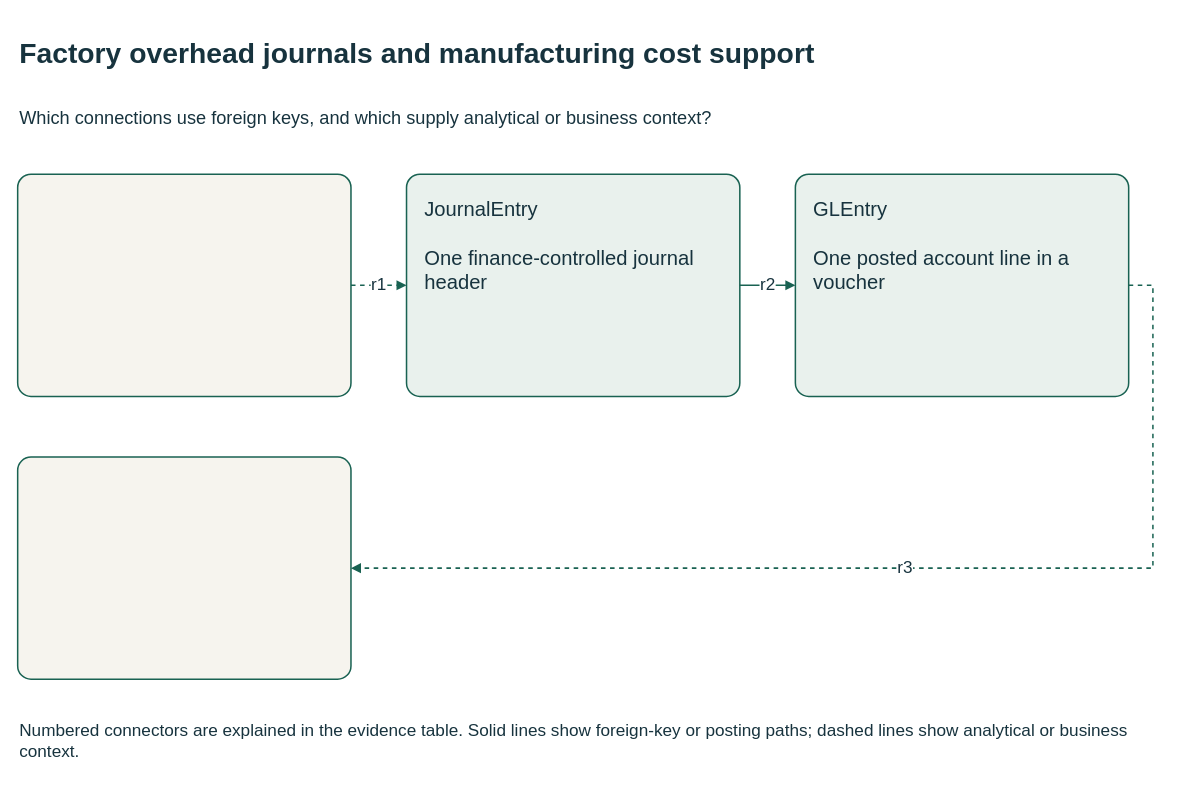
The diagram is 1180 pixels wide and 789 high, and some of its shapes have lost their labels. The shapes that lost their labels are listed below. From the top down, each one's centre as x and y in pixels, then its label:
At (183,285): "Factory Overhead Context for interpreting the named evidence".
At (183,568): "Manufacturing costing support Context for interpreting the named evidence".
